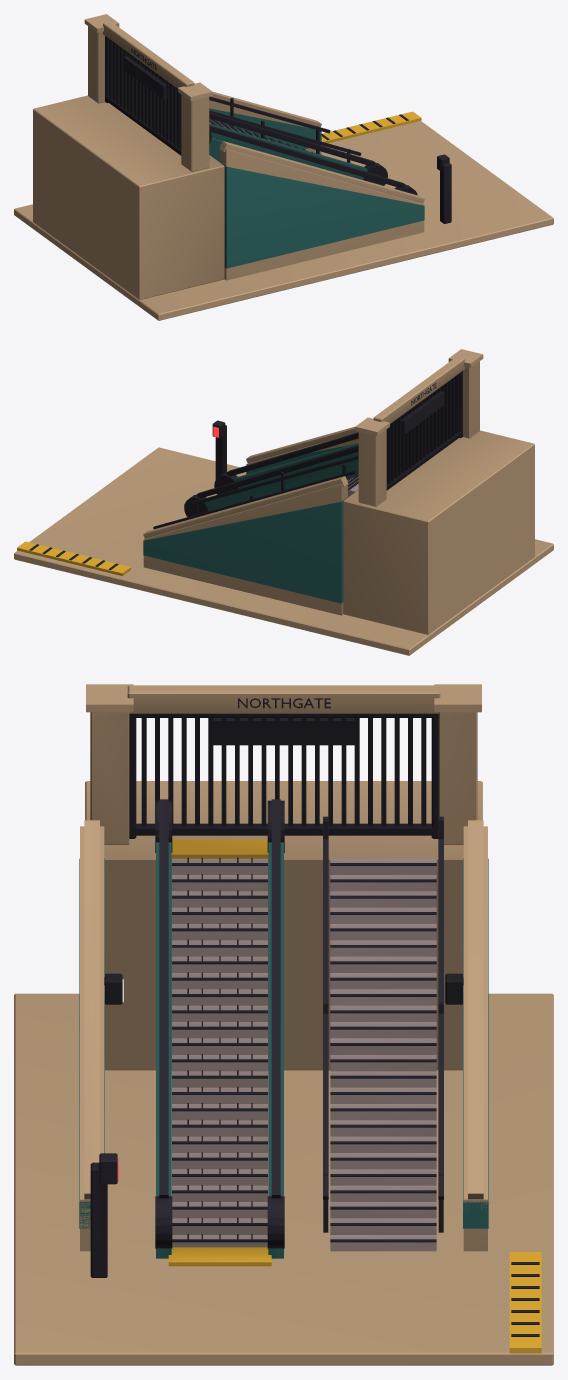
File: int.metro-exit.glb
The picture shows the model from 3 angles, top to bottom: view 1: azimuth 30°, elevation 25°; view 2: azimuth 150°, elevation 25°; view 3: azimuth 270°, elevation 25°; orthographic projection. The views are drawn at different scales.
Visible parts, largest first — view 1: body, exitGate; view 2: body, exitGate; view 3: body, exitGate.
Part boxes in pixels (<box>): body: <box>14,14,553,320</box>; exitGate: <box>105,36,181,155</box>; body: <box>14,349,553,655</box>; exitGate: <box>386,371,462,490</box>; body: <box>14,684,553,1365</box>; exitGate: <box>129,714,438,838</box>.
Bounding box in the file's own units: 12 × 5.81 × 7.6.
